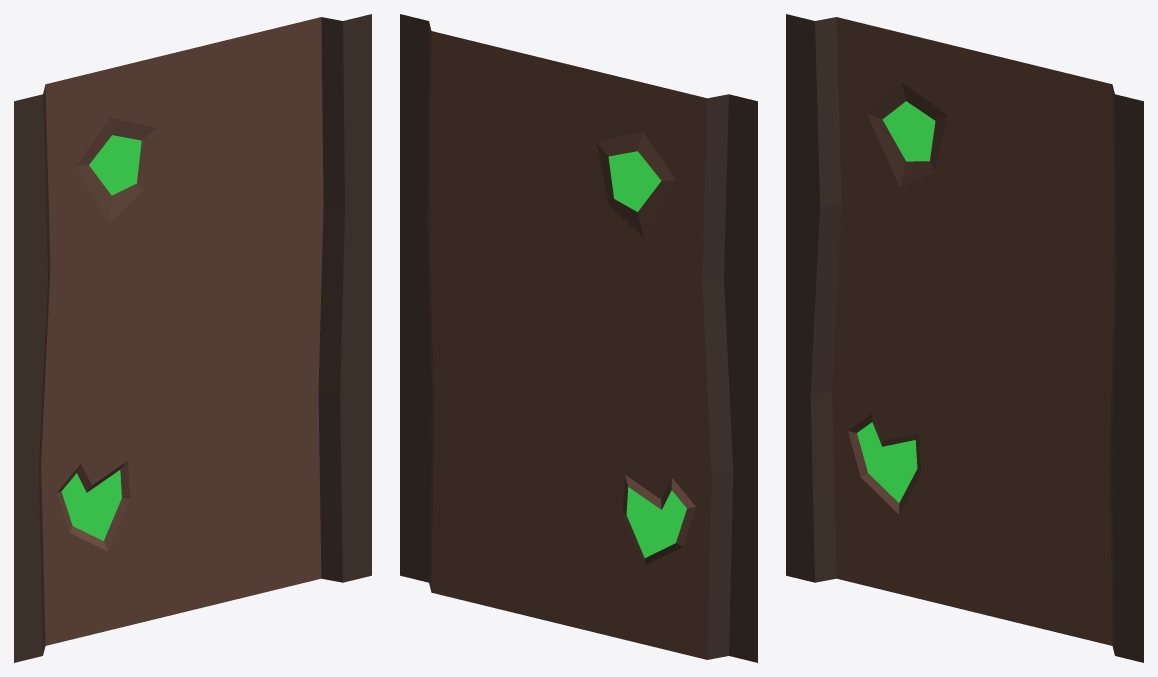
The model's file is LPHorror_2MWallA.fbx.
3 views of the same model, side by side, from view 1: azimuth 30°, elevation 25°; view 2: azimuth 150°, elevation 25°; view 3: azimuth 330°, elevation 25° (orthographic).
Visible parts, largest first — view 1: 2MWallA; view 2: 2MWallA; view 3: 2MWallA.
Part boxes in pixels (bbox=[...]): 2MWallA: bbox=[14, 14, 371, 662]; 2MWallA: bbox=[400, 14, 757, 662]; 2MWallA: bbox=[786, 14, 1143, 662].
Bounding box in the file's own units: 200 × 300 × 11.35.
